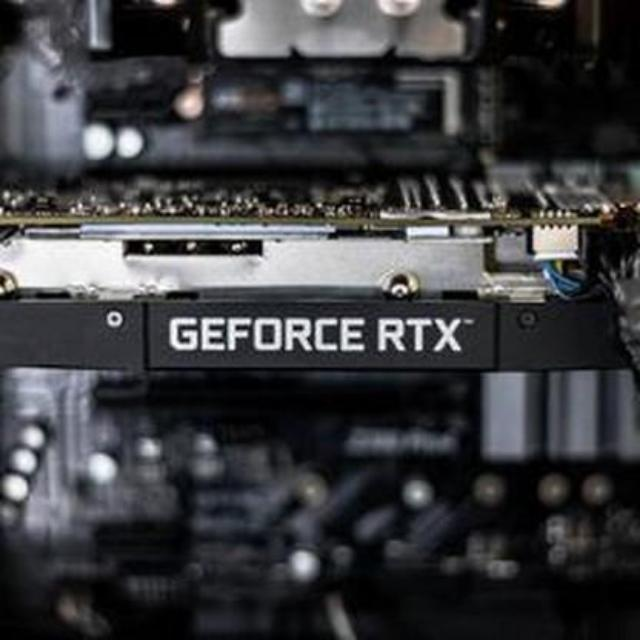GPU: (0, 150, 640, 382)
